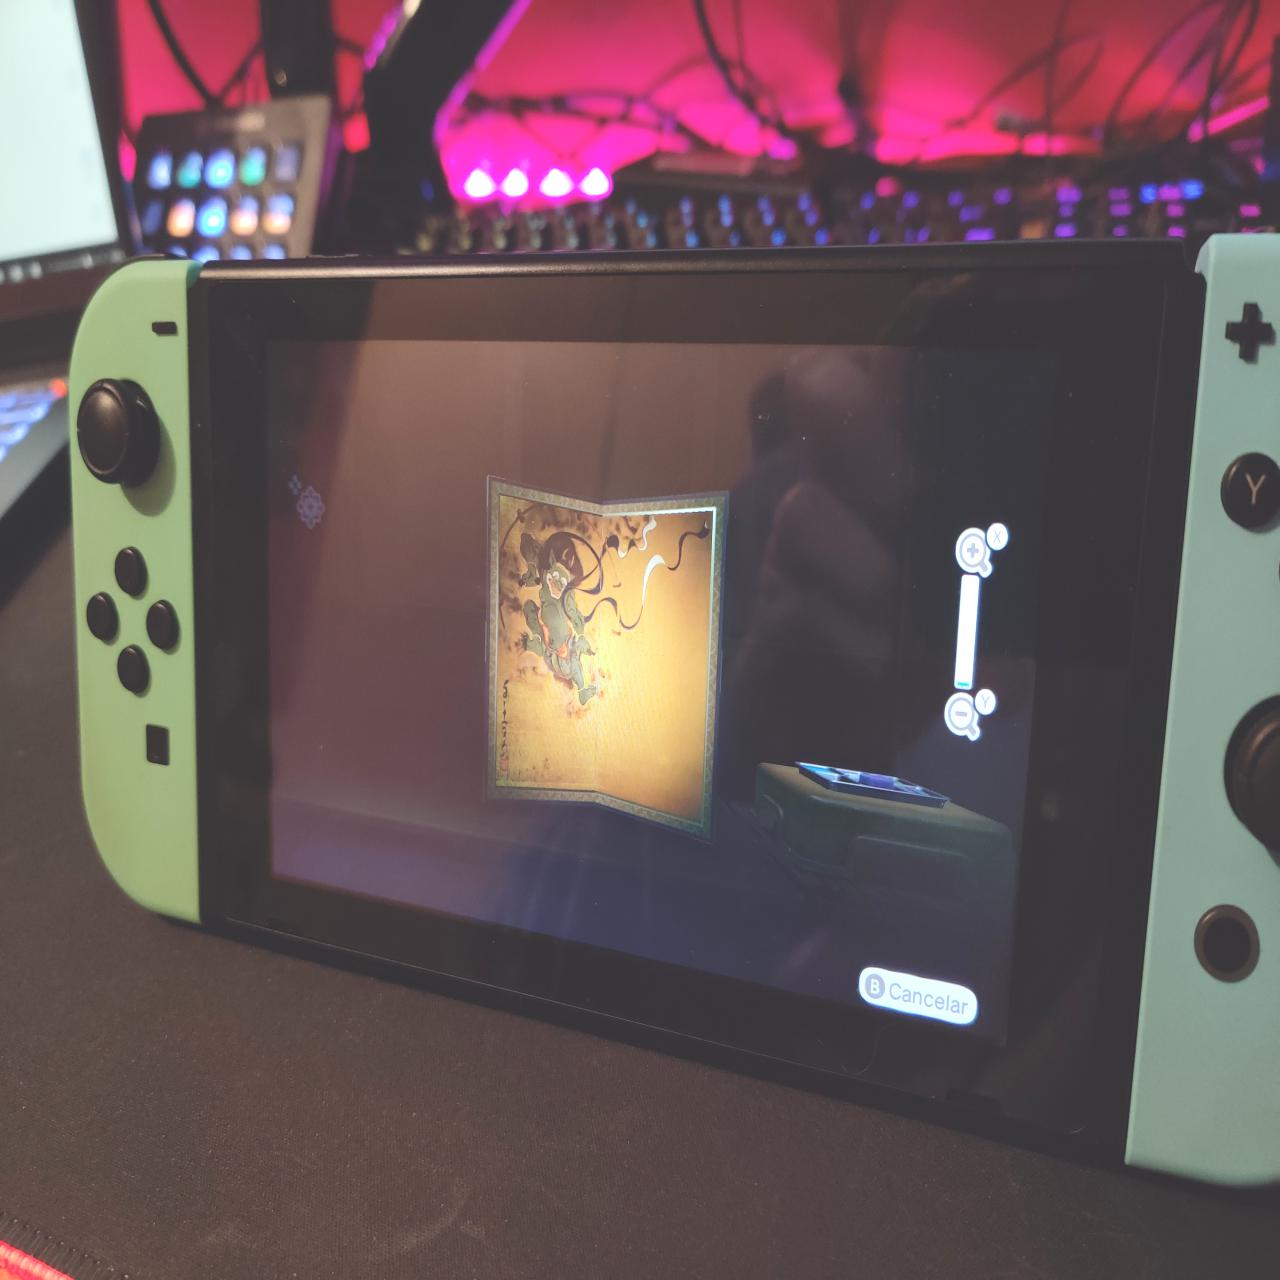RaijinFake: (489, 475, 726, 840)
